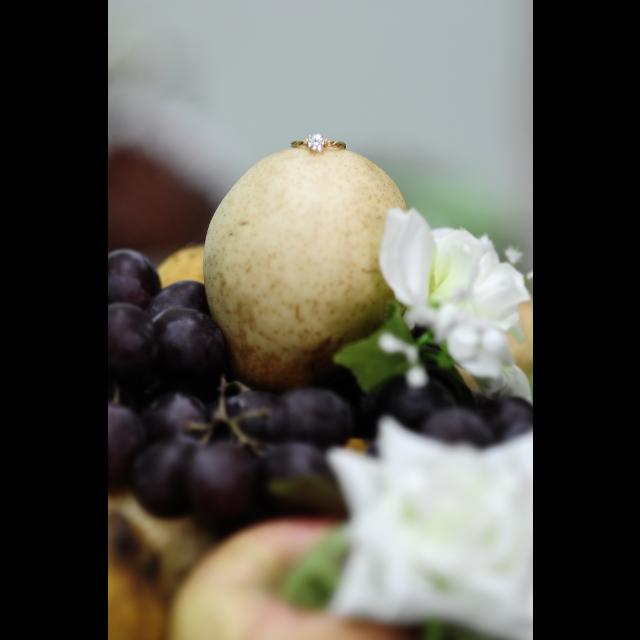Flower: (292, 404, 532, 640), (388, 194, 522, 398)
